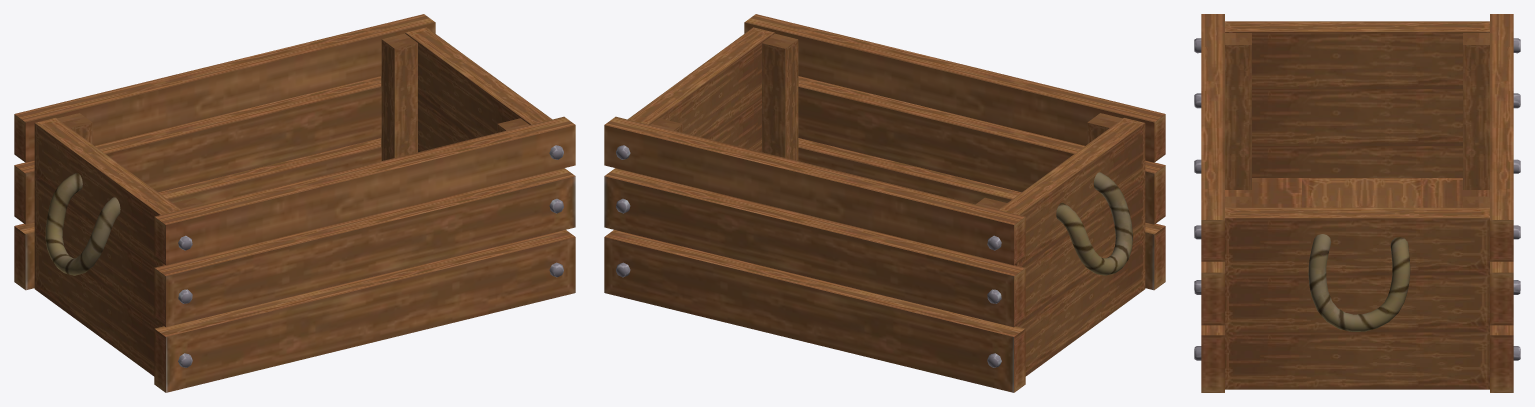
Rendered from FarmCrate Empty.glb.
The picture shows the model from 3 angles, left to right: view 1: azimuth 30°, elevation 25°; view 2: azimuth 150°, elevation 25°; view 3: azimuth 270°, elevation 25°; orthographic projection. The views are drawn at different scales.
Parts seen in each view (by area): view 1: FarmCrate_Empty; view 2: FarmCrate_Empty; view 3: FarmCrate_Empty.
Boxes of the visible parts, x1=… form: FarmCrate_Empty: x1=14, y1=14, x2=575, y2=392; FarmCrate_Empty: x1=604, y1=14, x2=1165, y2=392; FarmCrate_Empty: x1=1194, y1=14, x2=1520, y2=392.
Size of the model in its own units: 0.7138 by 0.2438 by 0.4142.
Materials: 2 (2 with a texture image).
